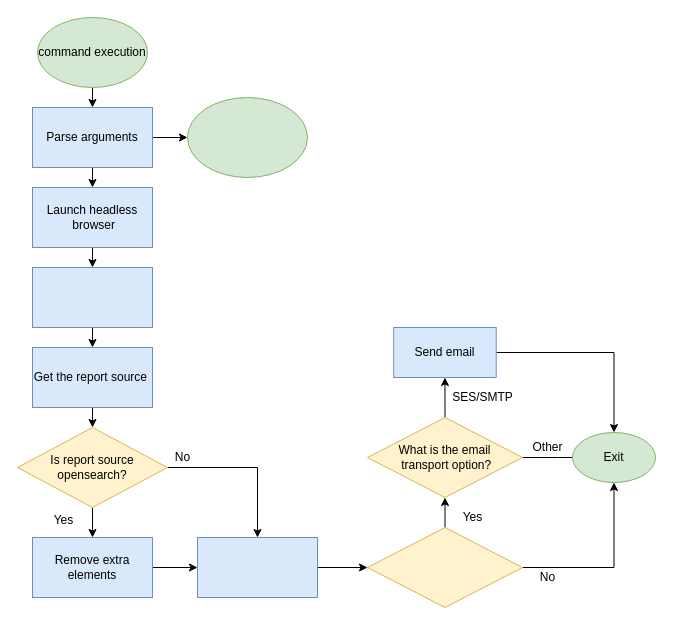
Some shapes in this 673 by 625 pixel diagram are drawn without their labels. The shapes that lost their labels are listed below. From the top down, each one's centre as x and y in pixels, then its label:
At pixel 247 137: "Return error if required argument is missing".
At pixel 92 297: "Verify authentication and go to url".
At pixel 257 567: "Wait for page to load and generate report".
At pixel 444 567: "Are arguments set for sending email?".
